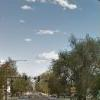Tree: (45, 32, 100, 97)
